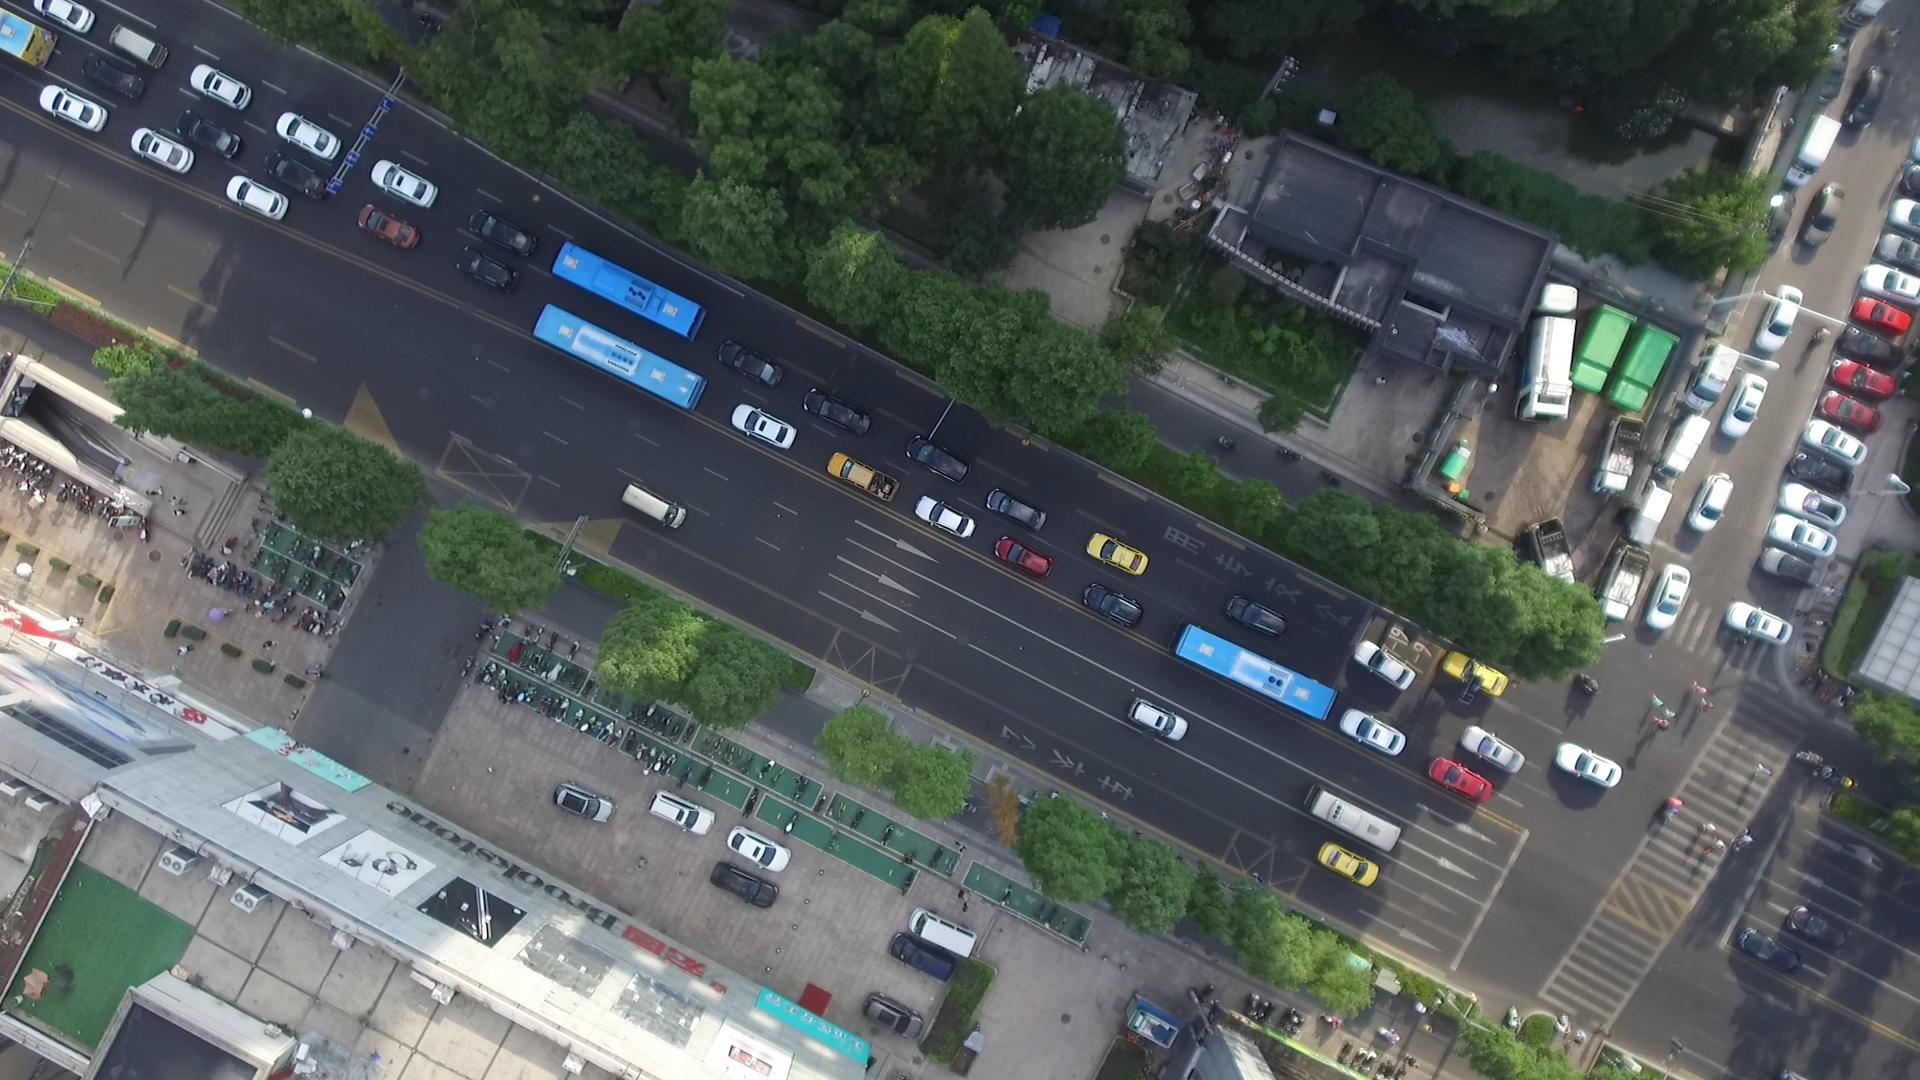Vehicle: (527, 301, 711, 417), (1164, 621, 1340, 723), (546, 240, 707, 342), (1300, 783, 1404, 851), (1594, 542, 1654, 622), (462, 206, 543, 261), (367, 156, 443, 214), (1593, 414, 1647, 495), (616, 477, 696, 530), (1716, 375, 1776, 444), (80, 50, 150, 109), (823, 448, 899, 502), (1518, 516, 1576, 585), (1787, 113, 1844, 185), (270, 105, 345, 158), (725, 400, 803, 450), (262, 148, 332, 203), (705, 858, 781, 910), (645, 787, 720, 839), (353, 199, 426, 252), (1684, 343, 1741, 410), (800, 385, 873, 436), (982, 484, 1055, 535), (1803, 415, 1871, 468), (903, 434, 973, 485), (1081, 529, 1153, 579), (175, 105, 241, 160), (1353, 640, 1419, 694), (38, 82, 107, 133), (909, 907, 977, 959), (103, 22, 173, 73), (127, 127, 196, 177), (1, 8, 55, 73), (452, 241, 520, 293), (1077, 579, 1145, 630), (727, 824, 794, 876), (1751, 284, 1803, 351), (887, 932, 956, 982), (1443, 649, 1510, 699), (1793, 179, 1842, 248), (222, 174, 291, 222), (189, 61, 256, 109), (1218, 593, 1287, 641), (1687, 469, 1737, 534), (1725, 601, 1795, 647), (1556, 738, 1622, 787), (1844, 63, 1891, 131), (1461, 724, 1523, 775), (716, 340, 785, 386), (858, 992, 924, 1039), (1768, 513, 1836, 559), (913, 496, 976, 545), (1787, 905, 1850, 953), (1341, 708, 1406, 754), (1737, 923, 1799, 971), (1647, 564, 1691, 632), (1778, 483, 1845, 526), (1830, 357, 1898, 401), (1129, 698, 1189, 745), (1427, 757, 1493, 800), (992, 535, 1055, 580), (1818, 389, 1880, 434), (1838, 326, 1903, 368), (553, 781, 615, 824), (1760, 546, 1822, 589), (1788, 450, 1851, 492), (1316, 843, 1378, 885), (1861, 262, 1920, 306), (1847, 295, 1913, 334), (1763, 186, 1797, 253), (32, 1, 95, 36), (1820, 37, 1850, 104), (1876, 232, 1920, 270), (1884, 198, 1920, 233)
